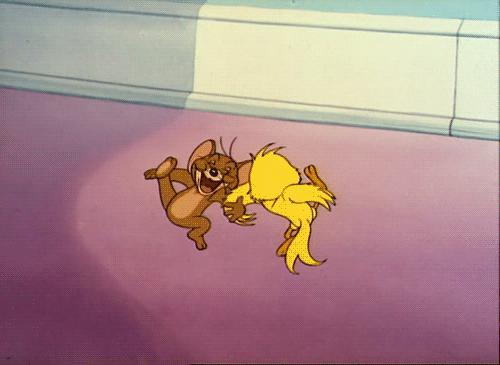jerry: (143, 135, 256, 252)
